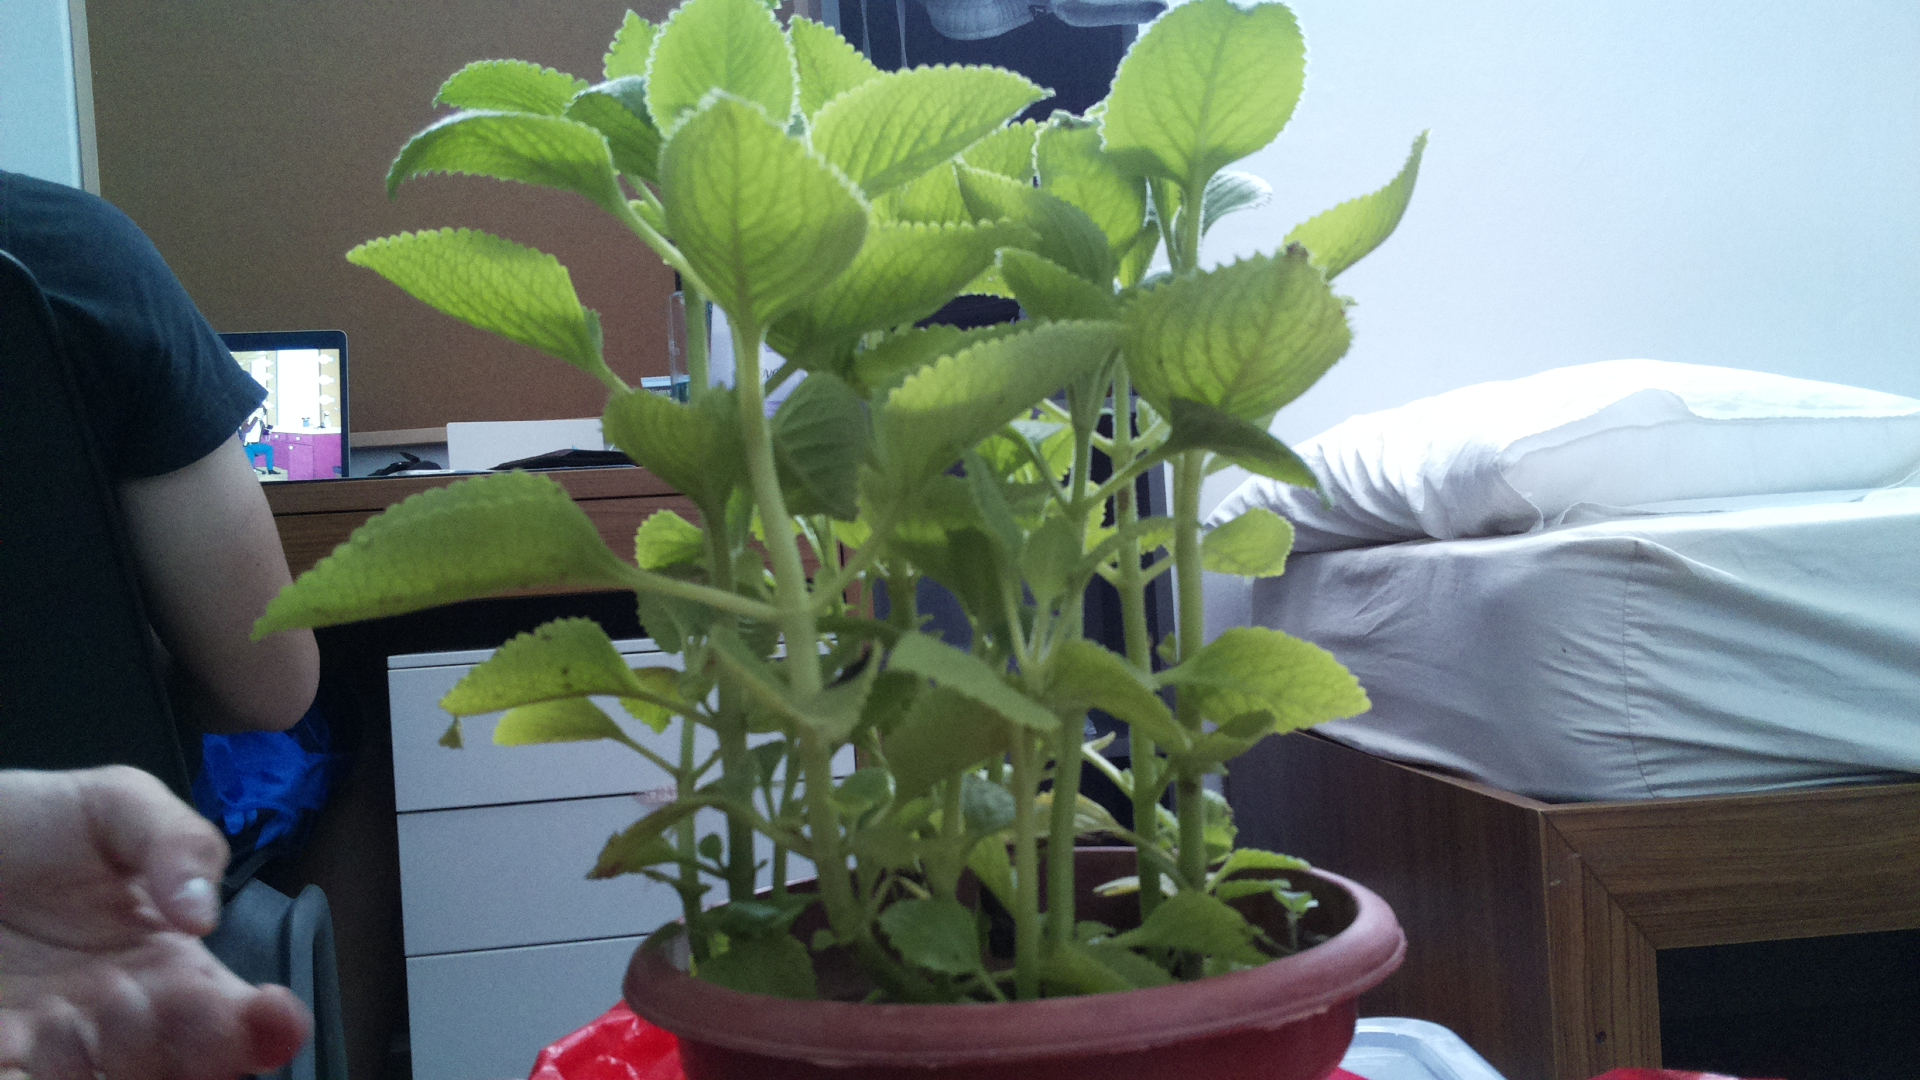leaf: (235, 455, 632, 657), (880, 309, 1147, 514), (665, 80, 857, 342), (343, 211, 612, 390), (1127, 243, 1356, 447), (814, 53, 1083, 185), (1106, 7, 1302, 183), (352, 99, 620, 219), (433, 603, 640, 735), (699, 618, 876, 762), (1284, 123, 1447, 272), (1183, 626, 1375, 745), (604, 371, 753, 521), (429, 53, 599, 125), (1200, 501, 1299, 587)
